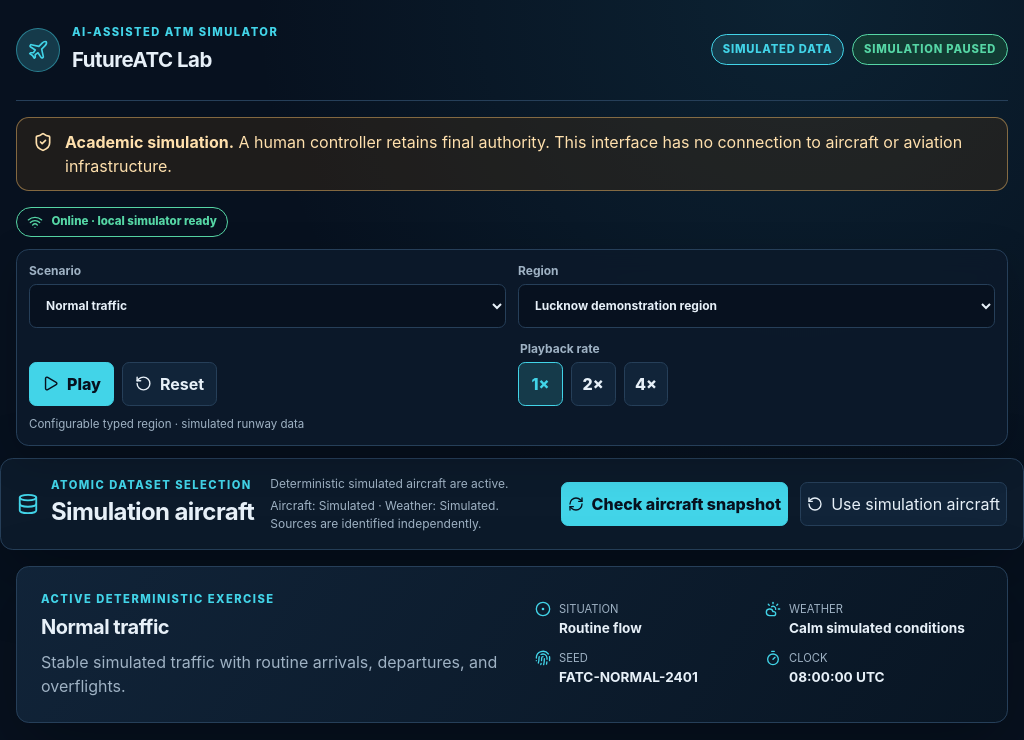
external aircraft mode integration › atomically replaces simulation with a fresh near-live snapshot and unavailable fields
What coordinates should you click on to do the following:
click the button "Check aircraft snapshot"
I would click on:
 (674, 504)
Its box is [561, 482, 788, 526].
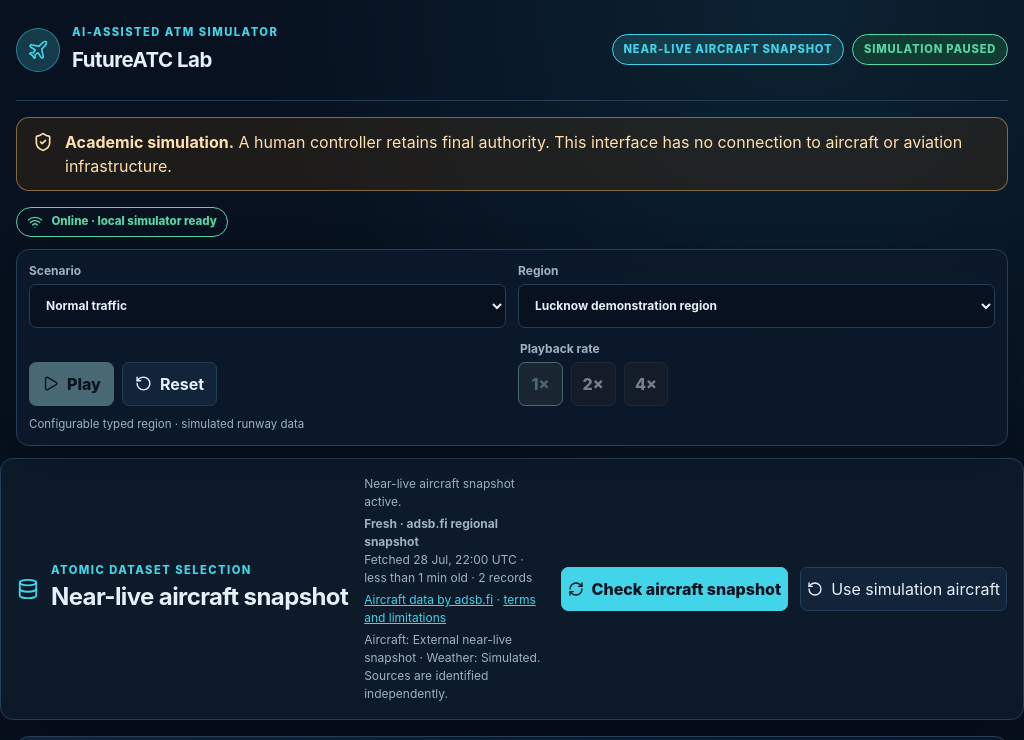
Now the text "Near-live aircraft snapshot active." is shown, box [364, 476, 515, 509]
Now the link "Aircraft data by adsb.fi" is shown, box [364, 592, 493, 607]
Now the button "Play" is disabled, box [29, 362, 114, 406]
What coordinates should you click on to do the following:
click the button "Use simulation aircraft"
I would click on:
 (904, 589)
Its box is [800, 567, 1007, 611].
(page scrolled)
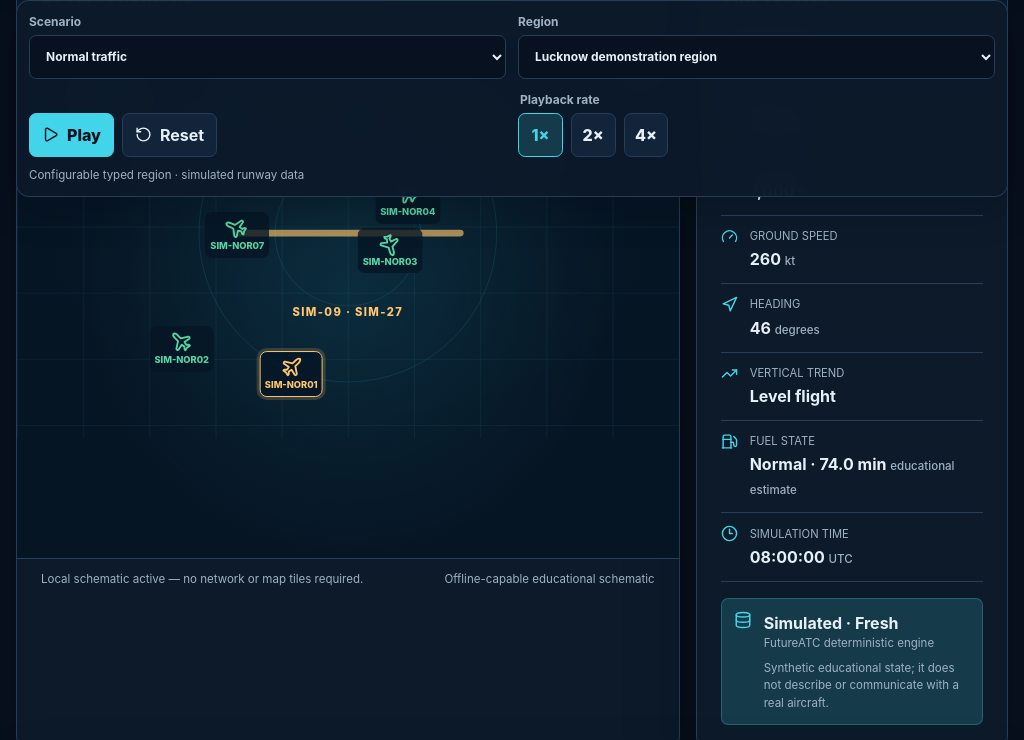
Now the text "SIM-NOR01" is shown, box [265, 378, 318, 392]
